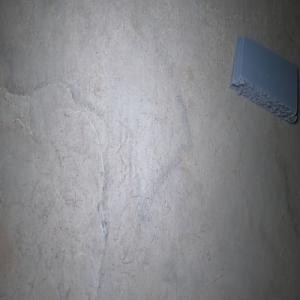PlasticPart: (229, 35, 297, 124)
